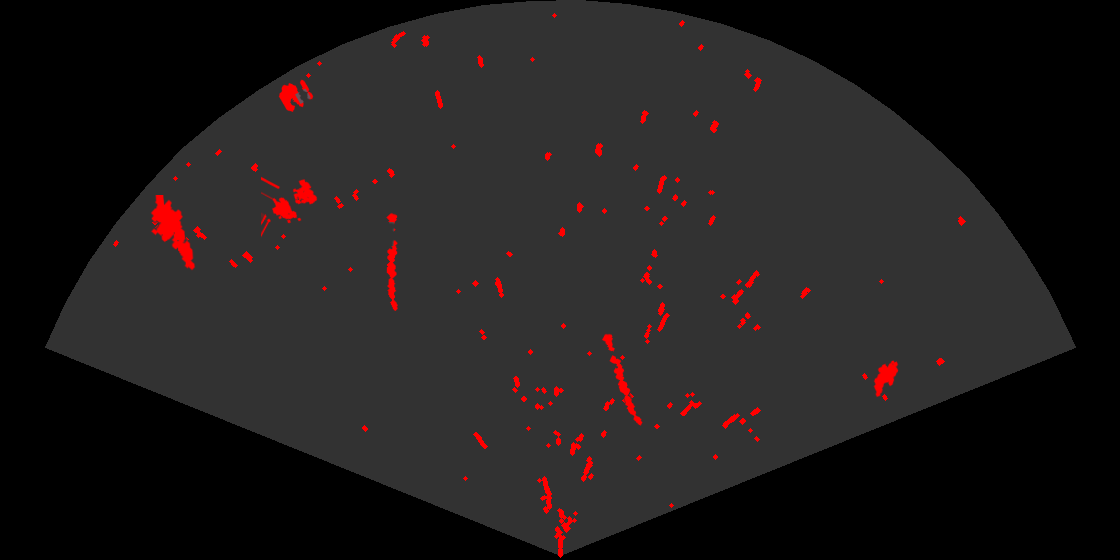AUV: (872, 359, 900, 399)
ball: (277, 78, 315, 114)
cage: (261, 175, 319, 239)
chain: (600, 331, 644, 427), (385, 211, 399, 311)
frogman: (149, 195, 197, 272)
